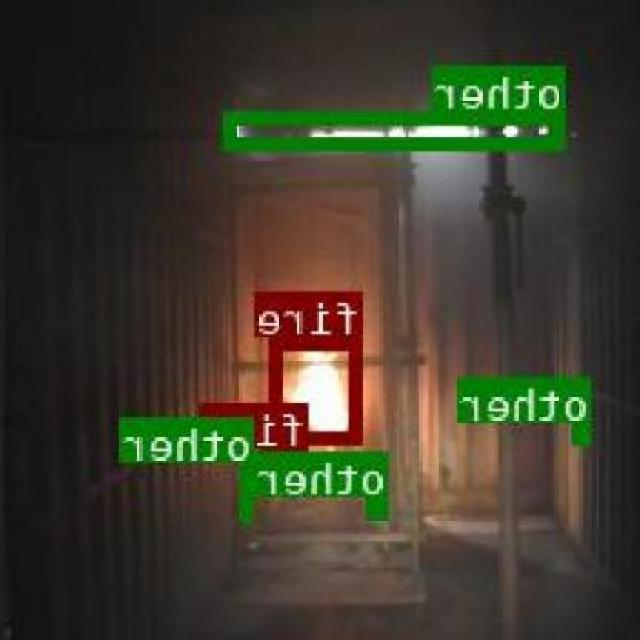Fire: (272, 336, 366, 442)
